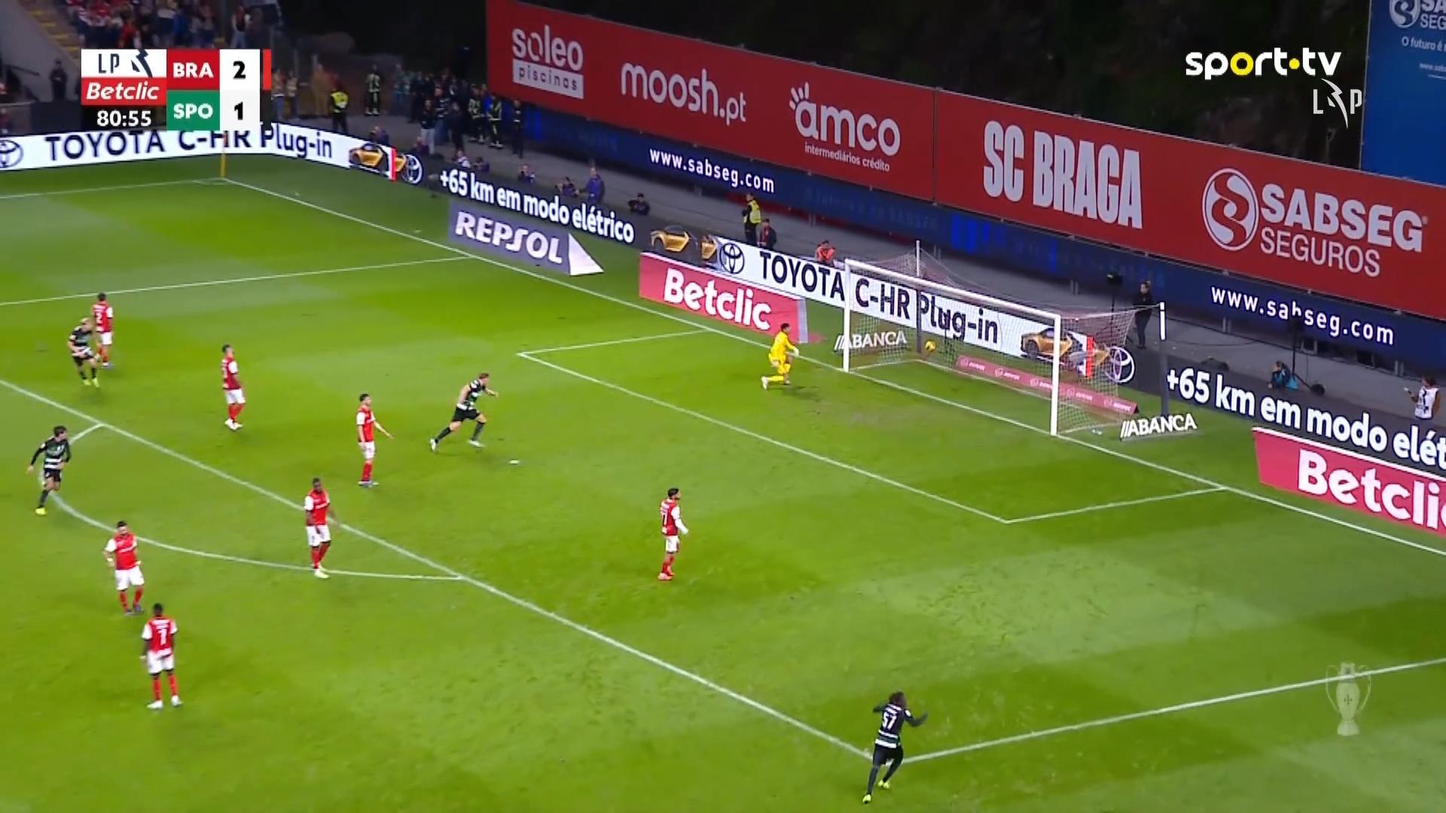ball: (924, 340, 935, 352)
goalkeeper: (760, 321, 799, 390)
player: (861, 690, 928, 803), (428, 371, 498, 453), (139, 601, 183, 708), (102, 519, 146, 615), (25, 425, 71, 515), (303, 477, 339, 578), (355, 392, 392, 487), (657, 486, 688, 580), (66, 315, 100, 388), (219, 343, 246, 431), (90, 291, 114, 367)
